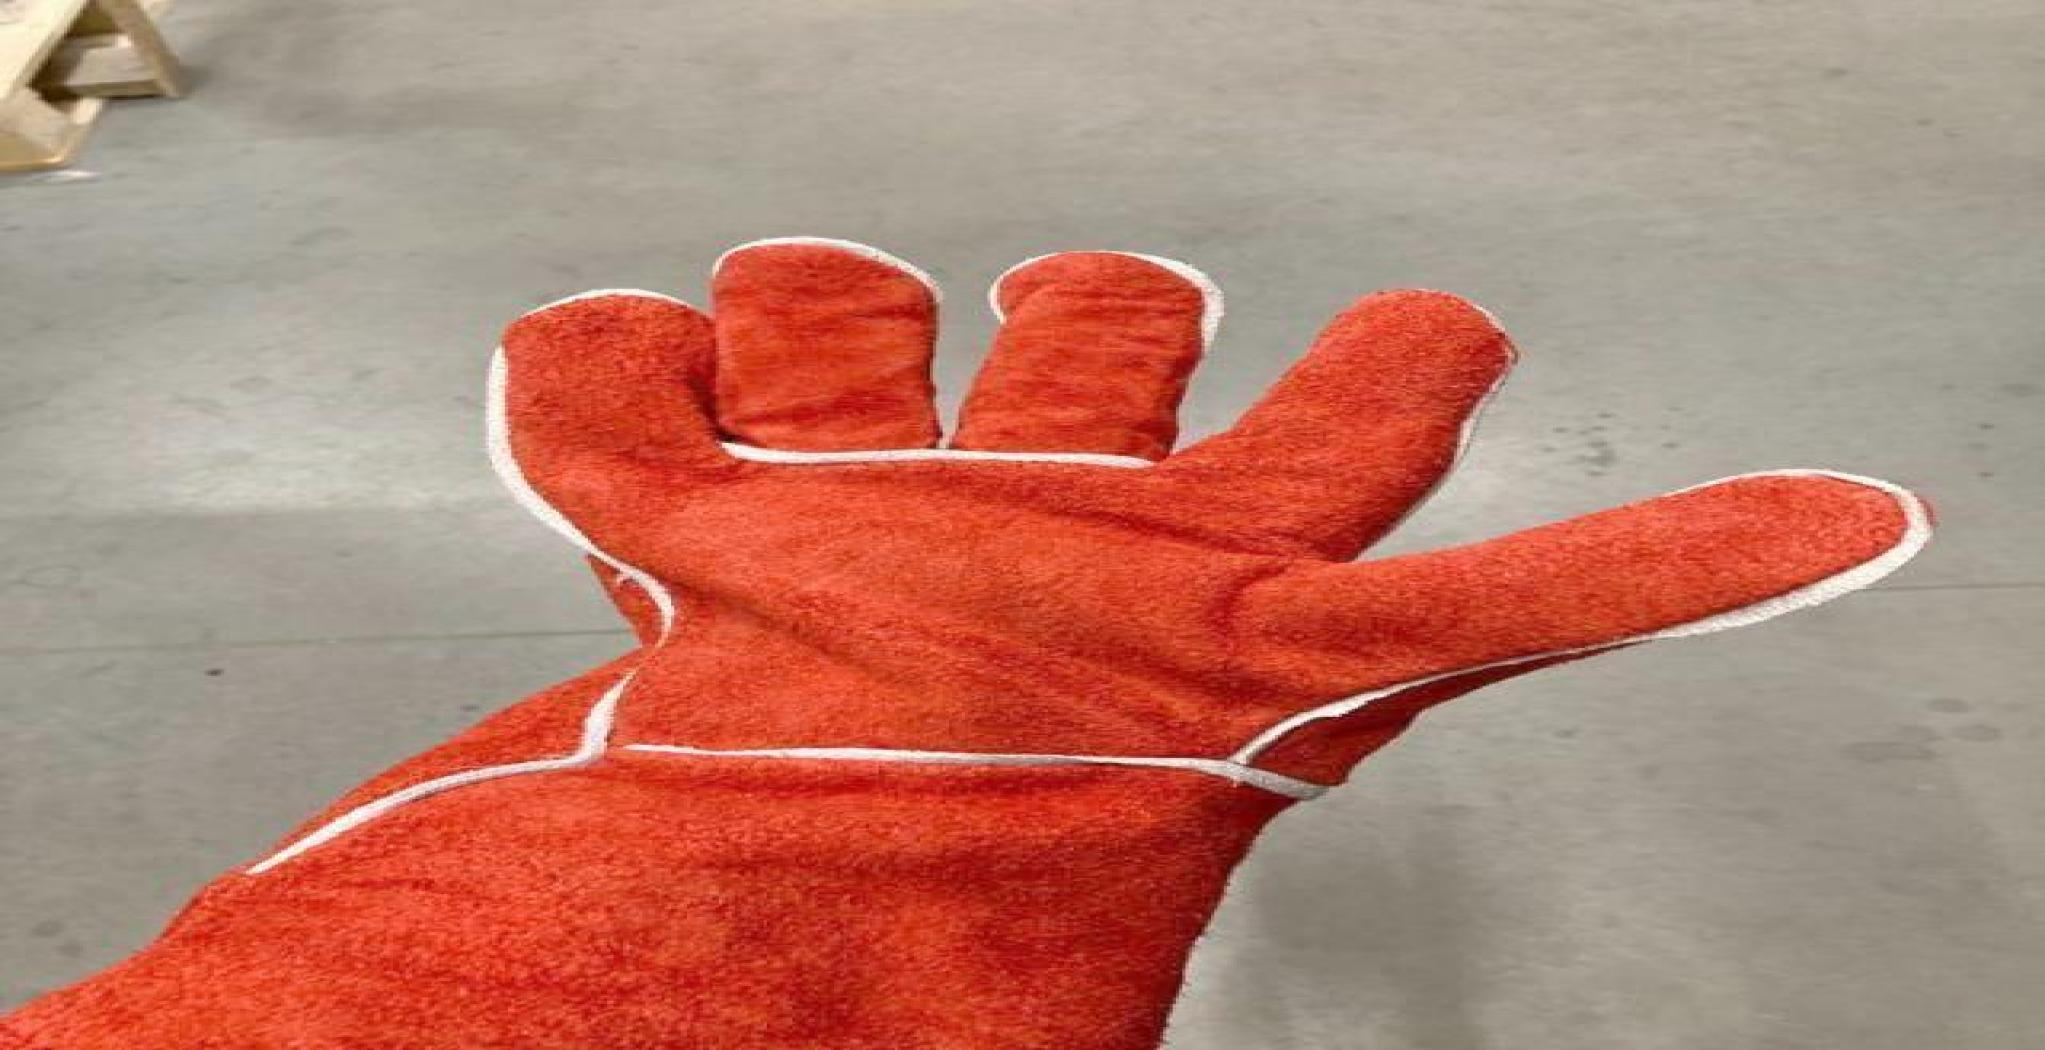gloved: (3, 233, 1933, 1047)
